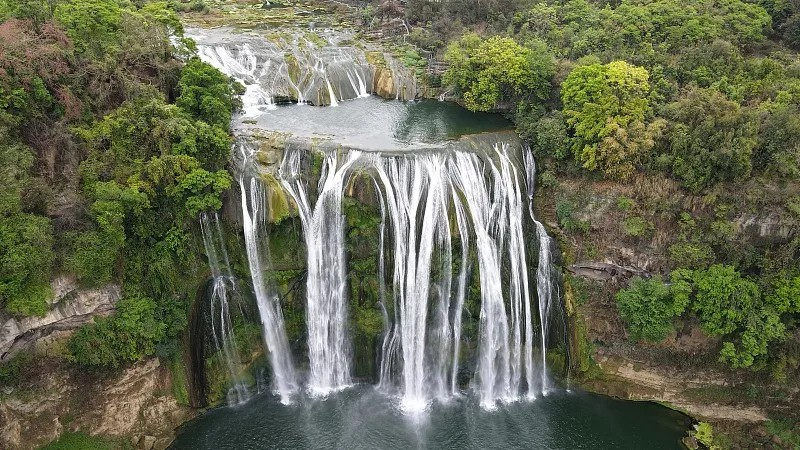Huangguoshu: (196, 44, 552, 405)
